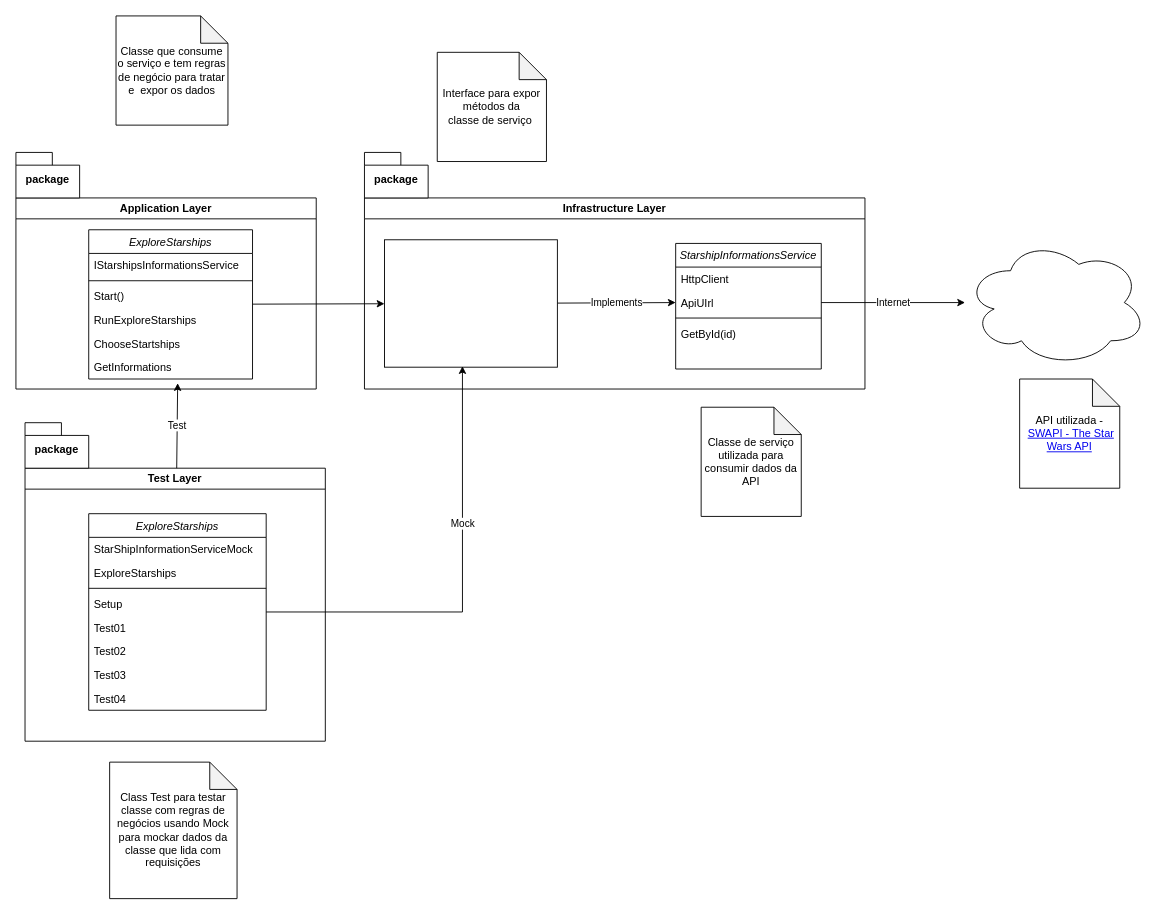
This 1163x915 diagram has some shape labels left out. Each missing label, with the centre of its shape:
"<<Interface>> IStarshipInformationsService + GetById(Id)" belongs at [470,303].
"Star Wars API" belongs at [1055,302].
